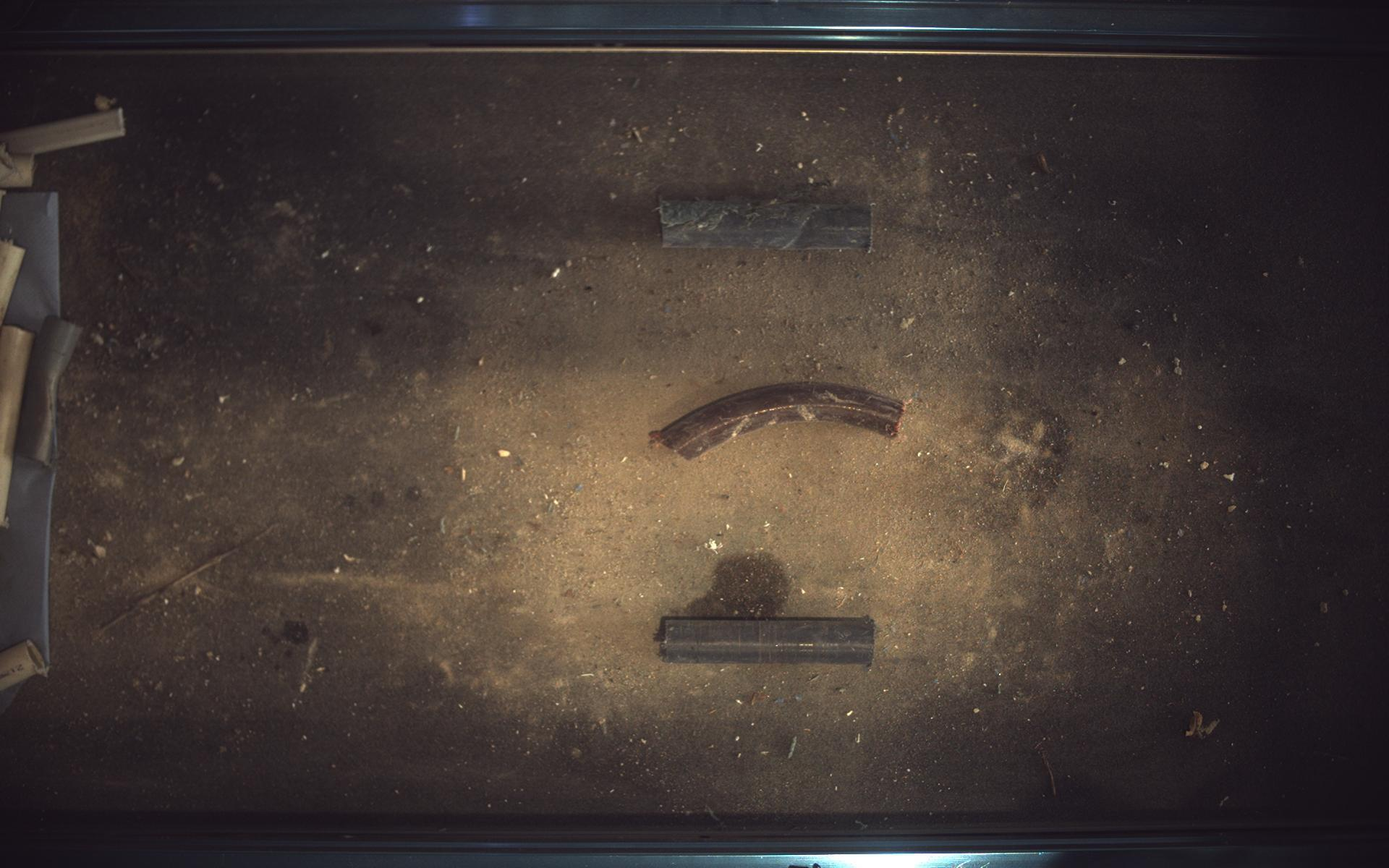pipes: (651, 382, 907, 459), (658, 617, 877, 667), (660, 199, 873, 250), (13, 315, 80, 466), (1, 326, 33, 527), (1, 640, 46, 692), (1, 239, 23, 325), (1, 153, 34, 188), (1, 145, 14, 183)
plastic: (1, 106, 124, 154)
